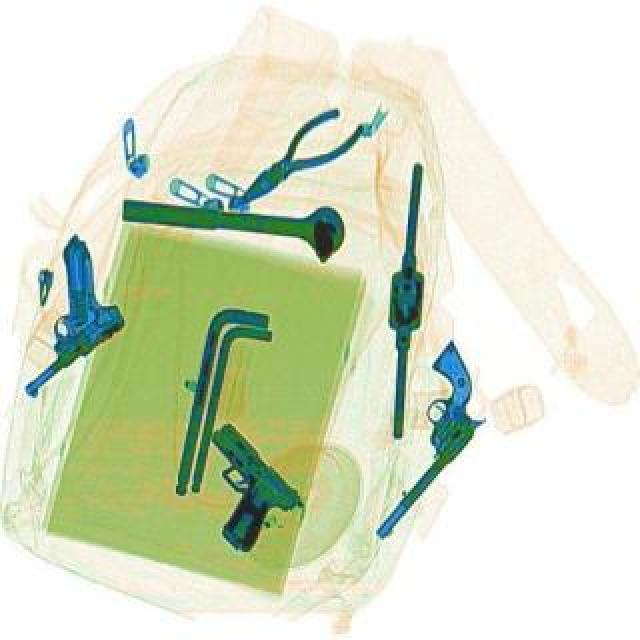gun: (320, 336, 516, 540), (158, 418, 310, 558), (24, 230, 136, 406)
wrench: (222, 96, 368, 224)
